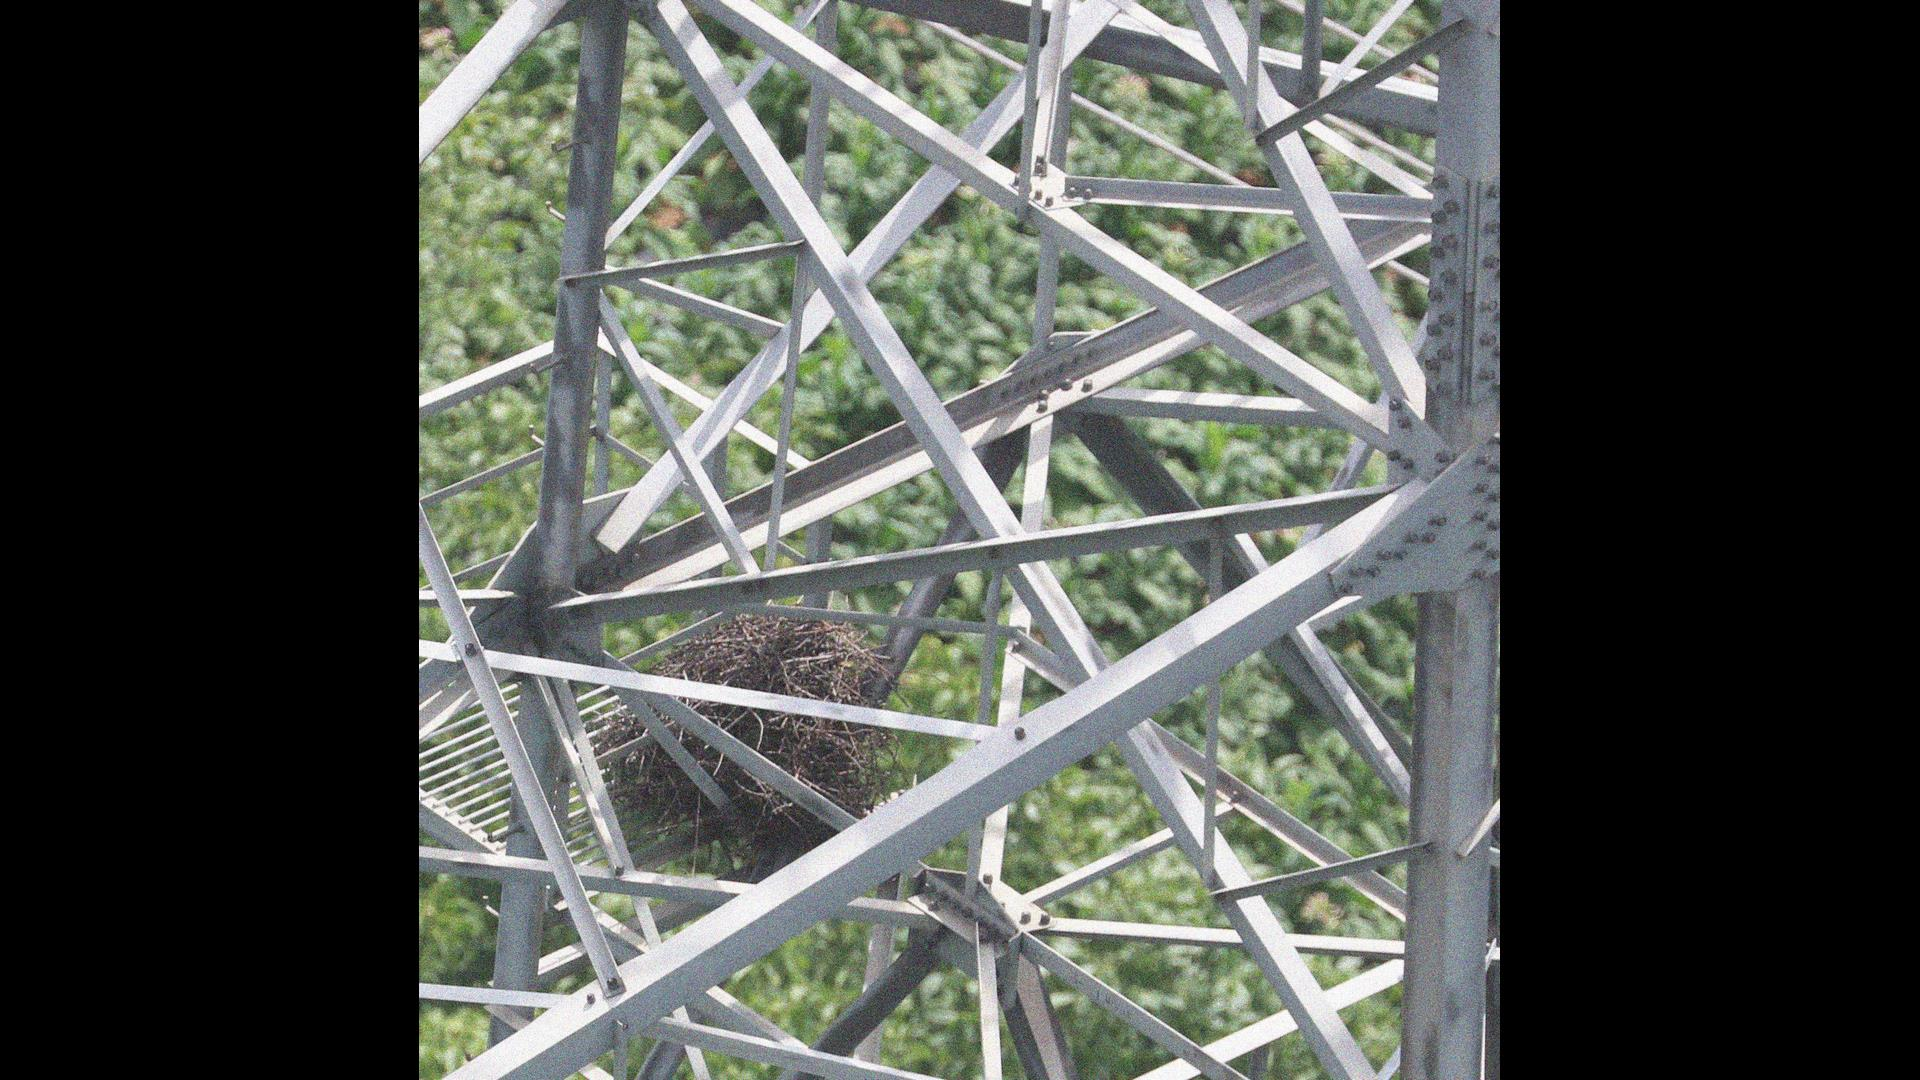niaowo: (595, 591, 924, 880)
